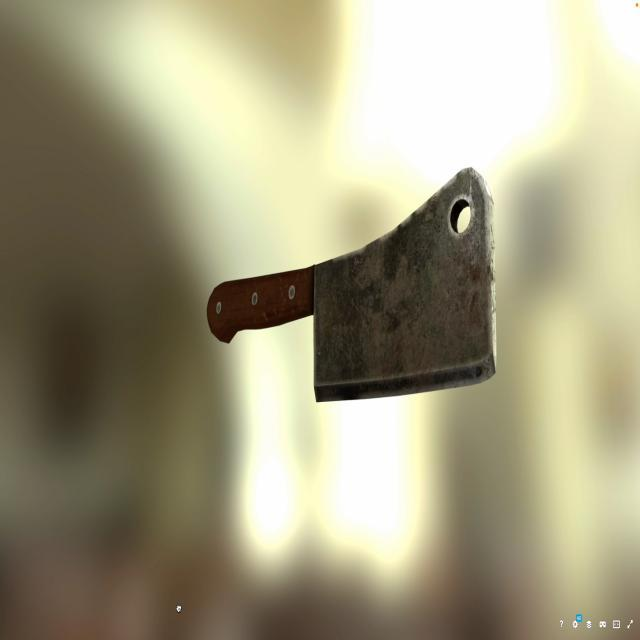cleaver: (205, 160, 502, 398)
